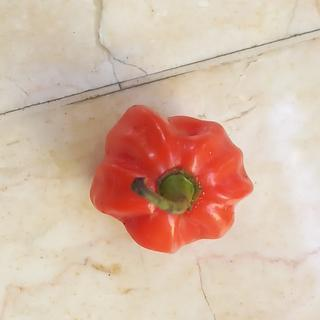Grade-B: (84, 102, 258, 256)
